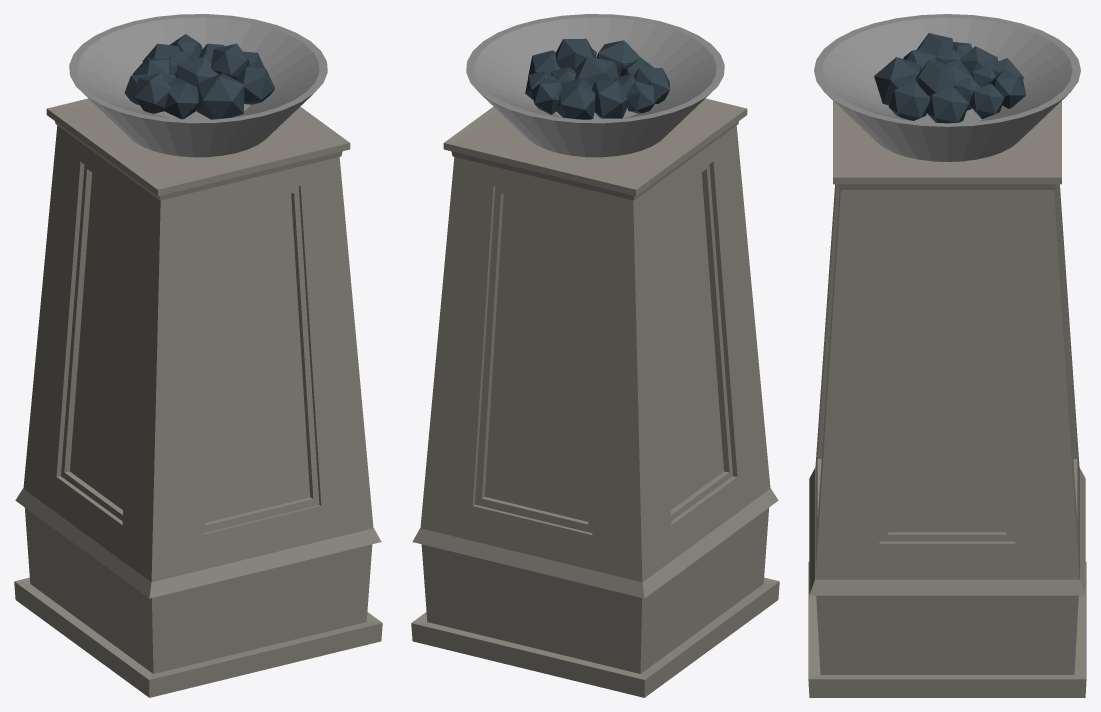
The model's file is FirePillar.fbx.
The picture shows the model from 3 angles, left to right: view 1: azimuth 30°, elevation 25°; view 2: azimuth 150°, elevation 25°; view 3: azimuth 270°, elevation 25°; orthographic projection. The views are drawn at different scales.
Parts seen in each view (by area): view 1: Cube.001; view 2: Cube.001; view 3: Cube.001.
Part boxes in pixels (<box>): Cube.001: <box>14,14,382,697</box>; Cube.001: <box>411,14,779,697</box>; Cube.001: <box>808,14,1086,697</box>.
Size of the model in its own units: 119 by 277 by 119.
